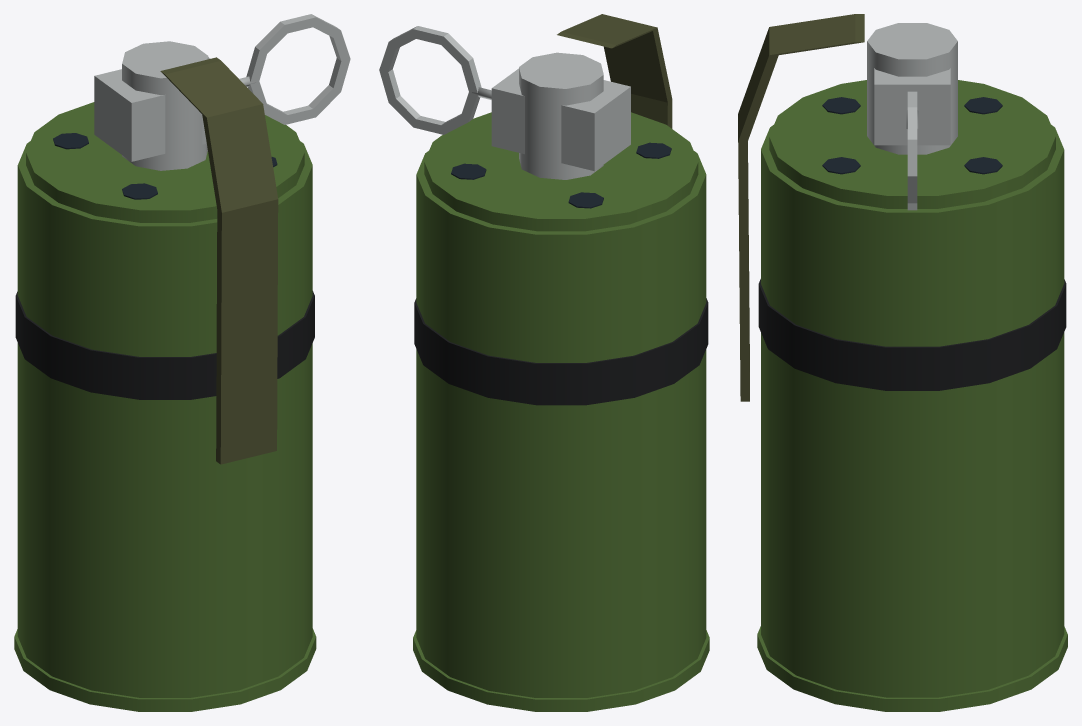
The model's file is smoke.glb.
The picture shows the model from 3 angles, left to right: view 1: azimuth 30°, elevation 25°; view 2: azimuth 150°, elevation 25°; view 3: azimuth 270°, elevation 25°; orthographic projection. The views are drawn at different scales.
Visible parts, largest first — view 1: smoke; view 2: smoke; view 3: smoke.
Part boxes in pixels (x1=…): smoke: x1=14, y1=14, x2=350, y2=711; smoke: x1=379, y1=14, x2=709, y2=711; smoke: x1=738, y1=14, x2=1067, y2=711.
Size of the model in its own units: 0.0775 by 0.143 by 0.069.
1 material, 1 textured.
